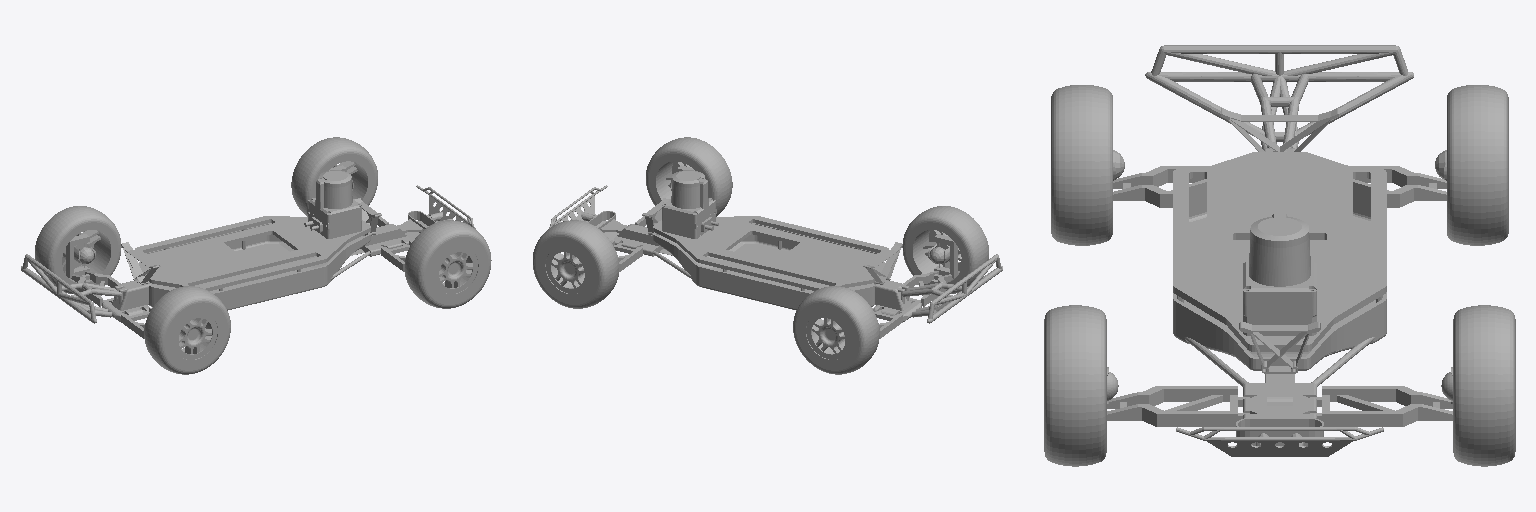
The robot description file, URDF, robot "Assembly":
<?xml version="1.0" ?>
<!-- =================================================================================== -->
<!-- |    This document was autogenerated by xacro from src/Assembly_description_2/urdf/Assembly.xacro | -->
<!-- |    EDITING THIS FILE BY HAND IS NOT RECOMMENDED                                 | -->
<!-- =================================================================================== -->
<robot name="Assembly">
  <material name="silver">
    <color rgba="0.700 0.700 0.700 1.000"/>
  </material>
  <material name="black">
    <color rgba="0.2 0.2 0.2 1."/>
  </material>
  <material name="blue">
    <color rgba="0.3 0.57 1. 1."/>
  </material>
  <transmission name="Revolute_40_tran">
    <type>transmission_interface/SimpleTransmission</type>
    <joint name="Revolute_40">
      <hardwareInterface>hardware_interface/EffortJointInterface</hardwareInterface>
    </joint>
    <actuator name="Revolute_40_actr">
      <hardwareInterface>hardware_interface/EffortJointInterface</hardwareInterface>
      <mechanicalReduction>1</mechanicalReduction>
    </actuator>
  </transmission>
  <transmission name="Revolute_41_tran">
    <type>transmission_interface/SimpleTransmission</type>
    <joint name="Revolute_41">
      <hardwareInterface>hardware_interface/EffortJointInterface</hardwareInterface>
    </joint>
    <actuator name="Revolute_41_actr">
      <hardwareInterface>hardware_interface/EffortJointInterface</hardwareInterface>
      <mechanicalReduction>1</mechanicalReduction>
    </actuator>
  </transmission>
  <transmission name="Revolute_42_tran">
    <type>transmission_interface/SimpleTransmission</type>
    <joint name="Revolute_42">
      <hardwareInterface>hardware_interface/EffortJointInterface</hardwareInterface>
    </joint>
    <actuator name="Revolute_42_actr">
      <hardwareInterface>hardware_interface/EffortJointInterface</hardwareInterface>
      <mechanicalReduction>1</mechanicalReduction>
    </actuator>
  </transmission>
  <transmission name="Revolute_43_tran">
    <type>transmission_interface/SimpleTransmission</type>
    <joint name="Revolute_43">
      <hardwareInterface>hardware_interface/EffortJointInterface</hardwareInterface>
    </joint>
    <actuator name="Revolute_43_actr">
      <hardwareInterface>hardware_interface/EffortJointInterface</hardwareInterface>
      <mechanicalReduction>1</mechanicalReduction>
    </actuator>
  </transmission>
  <transmission name="Revolute_44_tran">
    <type>transmission_interface/SimpleTransmission</type>
    <joint name="Revolute_44">
      <hardwareInterface>hardware_interface/EffortJointInterface</hardwareInterface>
    </joint>
    <actuator name="Revolute_44_actr">
      <hardwareInterface>hardware_interface/EffortJointInterface</hardwareInterface>
      <mechanicalReduction>1</mechanicalReduction>
    </actuator>
  </transmission>
  <transmission name="Revolute_45_tran">
    <type>transmission_interface/SimpleTransmission</type>
    <joint name="Revolute_45">
      <hardwareInterface>hardware_interface/EffortJointInterface</hardwareInterface>
    </joint>
    <actuator name="Revolute_45_actr">
      <hardwareInterface>hardware_interface/EffortJointInterface</hardwareInterface>
      <mechanicalReduction>1</mechanicalReduction>
    </actuator>
  </transmission>
  <gazebo>
    <plugin filename="libgazebo_ros_control.so" name="control"/>
  </gazebo>
  <gazebo reference="base_link">
    <material>Gazebo/Silver</material>
    <mu1>0.2</mu1>
    <mu2>0.2</mu2>
    <selfCollide>true</selfCollide>
    <gravity>true</gravity>
  </gazebo>
  <gazebo reference="rotator_left_1">
    <material>Gazebo/Silver</material>
    <mu1>0.2</mu1>
    <mu2>0.2</mu2>
    <selfCollide>true</selfCollide>
  </gazebo>
  <gazebo reference="rotator_right_1">
    <material>Gazebo/Silver</material>
    <mu1>0.2</mu1>
    <mu2>0.2</mu2>
    <selfCollide>true</selfCollide>
  </gazebo>
  <gazebo reference="wheel_back_left_1">
    <material>Gazebo/Silver</material>
    <mu1>0.2</mu1>
    <mu2>0.2</mu2>
    <selfCollide>true</selfCollide>
  </gazebo>
  <gazebo reference="wheel_back_right_1">
    <material>Gazebo/Silver</material>
    <mu1>0.2</mu1>
    <mu2>0.2</mu2>
    <selfCollide>true</selfCollide>
  </gazebo>
  <gazebo reference="wheel_front_left_1">
    <material>Gazebo/Silver</material>
    <mu1>0.2</mu1>
    <mu2>0.2</mu2>
    <selfCollide>true</selfCollide>
  </gazebo>
  <gazebo reference="wheel_front_right_1">
    <material>Gazebo/Silver</material>
    <mu1>0.2</mu1>
    <mu2>0.2</mu2>
    <selfCollide>true</selfCollide>
  </gazebo>
  <link name="base_link">
    <inertial>
      <origin rpy="0 0 0" xyz="-0.02572645957604468 6.569516383123642e-06 0.017821626738037458"/>
      <mass value="4.156457046473223"/>
      <inertia ixx="0.013034" ixy="-6e-06" ixz="0.000867" iyy="0.084094" iyz="0.0" izz="0.095033"/>
    </inertial>
    <visual>
      <origin rpy="0 0 0" xyz="0 0 0"/>
      <geometry>
        <mesh filename="meshes/base_link.stl" scale="0.001 0.001 0.001"/>
      </geometry>
      <material name="silver"/>
    </visual>
    <collision>
      <origin rpy="0 0 0" xyz="0 0 0"/>
      <geometry>
        <mesh filename="meshes/base_link.stl" scale="0.001 0.001 0.001"/>
      </geometry>
    </collision>
  </link>
  <link name="rotator_left_1">
    <inertial>
      <origin rpy="0 0 0" xyz="4.4846516666918745e-07 0.003934914786975843 0.018000014002886432"/>
      <mass value="0.09154101472024741"/>
      <inertia ixx="1.1e-05" ixy="0.0" ixz="0.0" iyy="7e-06" iyz="0.0" izz="1e-05"/>
    </inertial>
    <visual>
      <origin rpy="0 0 0" xyz="-0.194799 -0.123074 -0.008"/>
      <geometry>
        <mesh filename="meshes/rotator_left_1.stl" scale="0.001 0.001 0.001"/>
      </geometry>
      <material name="silver"/>
    </visual>
    <collision>
      <origin rpy="0 0 0" xyz="-0.194799 -0.123074 -0.008"/>
      <geometry>
        <mesh filename="meshes/rotator_left_1.stl" scale="0.001 0.001 0.001"/>
      </geometry>
    </collision>
  </link>
  <link name="rotator_right_1">
    <inertial>
      <origin rpy="0 0 0" xyz="4.4867377607671344e-07 -0.0039356889065224054 0.018000014002296498"/>
      <mass value="0.0915410147202475"/>
      <inertia ixx="1.1e-05" ixy="-0.0" ixz="0.0" iyy="7e-06" iyz="-0.0" izz="1e-05"/>
    </inertial>
    <visual>
      <origin rpy="0 0 0" xyz="-0.194799 0.122975 -0.008"/>
      <geometry>
        <mesh filename="meshes/rotator_right_1.stl" scale="0.001 0.001 0.001"/>
      </geometry>
      <material name="silver"/>
    </visual>
    <collision>
      <origin rpy="0 0 0" xyz="-0.194799 0.122975 -0.008"/>
      <geometry>
        <mesh filename="meshes/rotator_right_1.stl" scale="0.001 0.001 0.001"/>
      </geometry>
    </collision>
  </link>
  <link name="wheel_back_left_1">
    <inertial>
      <origin rpy="0 0 0" xyz="-5.9590334083869934e-08 -0.004873834232398622 -1.6533018565301205e-09"/>
      <mass value="1.8001224559704576"/>
      <inertia ixx="0.001935" ixy="0.0" ixz="0.0" iyy="0.003387" iyz="-0.0" izz="0.001935"/>
    </inertial>
    <visual>
      <origin rpy="0 0 0" xyz="0.170156 -0.1398 -0.0205"/>
      <geometry>
        <mesh filename="meshes/wheel_back_left_1.stl" scale="0.001 0.001 0.001"/>
      </geometry>
      <material name="silver"/>
    </visual>
    <collision>
      <origin rpy="0 0 0" xyz="0.170156 -0.1398 -0.0205"/>
      <geometry>
        <mesh filename="meshes/wheel_back_left_1.stl" scale="0.001 0.001 0.001"/>
      </geometry>
    </collision>
  </link>
  <link name="wheel_back_right_1">
    <inertial>
      <origin rpy="0 0 0" xyz="-5.938171759867217e-08 0.004873835811921301 1.7874123604821879e-09"/>
      <mass value="1.8001224559704576"/>
      <inertia ixx="0.001935" ixy="-0.0" ixz="-0.0" iyy="0.003387" iyz="-0.0" izz="0.001935"/>
    </inertial>
    <visual>
      <origin rpy="0 0 0" xyz="0.170156 0.1398 -0.0205"/>
      <geometry>
        <mesh filename="meshes/wheel_back_right_1.stl" scale="0.001 0.001 0.001"/>
      </geometry>
      <material name="silver"/>
    </visual>
    <collision>
      <origin rpy="0 0 0" xyz="0.170156 0.1398 -0.0205"/>
      <geometry>
        <mesh filename="meshes/wheel_back_right_1.stl" scale="0.001 0.001 0.001"/>
      </geometry>
    </collision>
  </link>
  <link name="wheel_front_left_1">
    <inertial>
      <origin rpy="0 0 0" xyz="4.07839516408659e-07 -0.004874166721957063 -1.6533018461217797e-09"/>
      <mass value="1.8001224559704576"/>
      <inertia ixx="0.001935" ixy="0.0" ixz="0.0" iyy="0.003387" iyz="-0.0" izz="0.001935"/>
    </inertial>
    <visual>
      <origin rpy="0 0 0" xyz="-0.194799 -0.144374 -0.026"/>
      <geometry>
        <mesh filename="meshes/wheel_front_left_1.stl" scale="0.001 0.001 0.001"/>
      </geometry>
      <material name="silver"/>
    </visual>
    <collision>
      <origin rpy="0 0 0" xyz="-0.194799 -0.144374 -0.026"/>
      <geometry>
        <mesh filename="meshes/wheel_front_left_1.stl" scale="0.001 0.001 0.001"/>
      </geometry>
    </collision>
  </link>
  <link name="wheel_front_right_1">
    <inertial>
      <origin rpy="0 0 0" xyz="4.08048126010474e-07 0.0048733926024102925 1.7874124749739373e-09"/>
      <mass value="1.8001224559704576"/>
      <inertia ixx="0.001935" ixy="-0.0" ixz="-0.0" iyy="0.003387" iyz="-0.0" izz="0.001935"/>
    </inertial>
    <visual>
      <origin rpy="0 0 0" xyz="-0.194799 0.144275 -0.026"/>
      <geometry>
        <mesh filename="meshes/wheel_front_right_1.stl" scale="0.001 0.001 0.001"/>
      </geometry>
      <material name="silver"/>
    </visual>
    <collision>
      <origin rpy="0 0 0" xyz="-0.194799 0.144275 -0.026"/>
      <geometry>
        <mesh filename="meshes/wheel_front_right_1.stl" scale="0.001 0.001 0.001"/>
      </geometry>
    </collision>
  </link>
  <link name="hokuyo_1">
    <inertial>
      <origin rpy="0 0 0" xyz="0.24350755184543652 0.1300039563861765 0.029712797831224984"/>
      <mass value="0.36783477848639723"/>
      <inertia ixx="0.0002" ixy="0.0" ixz="1e-06" iyy="0.000206" iyz="0.0" izz="0.000127"/>
    </inertial>
    <visual>
      <origin rpy="0 0 0" xyz="0.128416 0.13 -0.038"/>
      <geometry>
        <mesh filename="meshes/hokuyo_1.stl" scale="0.001 0.001 0.001"/>
      </geometry>
      <material name="silver"/>
    </visual>
    <collision>
      <origin rpy="0 0 0" xyz="0.128416 0.13 -0.038"/>
      <geometry>
        <mesh filename="meshes/hokuyo_1.stl" scale="0.001 0.001 0.001"/>
      </geometry>
    </collision>
  </link>
  <joint name="left_wheel_rotator" type="continuous">
    <origin rpy="0 0 0" xyz="0.194799 0.123074 0.008"/>
    <parent link="base_link"/>
    <child link="rotator_left_1"/>
    <axis xyz="0.0 -0.0 1.0"/>
  </joint>
  <joint name="right_wheel_rotator" type="continuous">
    <origin rpy="0 0 0" xyz="0.194799 -0.122975 0.008"/>
    <parent link="base_link"/>
    <child link="rotator_right_1"/>
    <axis xyz="-0.0 -0.0 -1.0"/>
  </joint>
  <joint name="left_wheel_back" type="continuous">
    <origin rpy="0 0 0" xyz="-0.170156 0.1398 0.0205"/>
    <parent link="base_link"/>
    <child link="wheel_back_left_1"/>
    <axis xyz="0.0 1.0 0.0"/>
  </joint>
  <joint name="right_wheel_back" type="continuous">
    <origin rpy="0 0 0" xyz="-0.170156 -0.1398 0.0205"/>
    <parent link="base_link"/>
    <child link="wheel_back_right_1"/>
    <axis xyz="-0.0 -1.0 0.0"/>
  </joint>
  <joint name="left_wheel_front" type="continuous">
    <origin rpy="0 0 0" xyz="0.0 0.0213 0.018"/>
    <parent link="rotator_left_1"/>
    <child link="wheel_front_left_1"/>
    <axis xyz="0.0 1.0 0.0"/>
  </joint>
  <joint name="right_wheel_front" type="continuous">
    <origin rpy="0 0 0" xyz="0.0 -0.0213 0.018"/>
    <parent link="rotator_right_1"/>
    <child link="wheel_front_right_1"/>
    <axis xyz="-0.0 -1.0 -0.0"/>
  </joint>
  <joint name="Rigid 51" type="fixed">
    <origin rpy="0 0 0" xyz="-0.128416 -0.13 0.038"/>
    <parent link="base_link"/>
    <child link="hokuyo_1"/>
  </joint>
</robot>

--- Facts derived from the render (not from the file) ---
Views: 3 orthographic renders of the robot side by side, from view 1: azimuth 30°, elevation 25°; view 2: azimuth 150°, elevation 25°; view 3: azimuth 270°, elevation 25°.
Model Assembly with 8 links and 7 joints (6 continuous, 1 fixed), rooted at base_link, posed all joints at 0.
Visible links, largest first — view 1: base_link, wheel_back_right_1, wheel_front_right_1, wheel_back_left_1, wheel_front_left_1, hokuyo_1; view 2: base_link, wheel_back_left_1, wheel_front_left_1, wheel_back_right_1, wheel_front_right_1, hokuyo_1; view 3: base_link, wheel_front_left_1, wheel_front_right_1, wheel_back_right_1, wheel_back_left_1, hokuyo_1.
Boxes of the visible links, x1,y1,x2,y2 form: base_link: (21,165,475,338); wheel_back_right_1: (144,286,230,374); wheel_front_right_1: (405,220,491,308); wheel_back_left_1: (35,206,121,293); wheel_front_left_1: (291,137,377,216); hokuyo_1: (304,170,361,238); base_link: (549,165,1002,338); wheel_back_left_1: (793,286,879,374); wheel_front_left_1: (533,220,618,308); wheel_back_right_1: (902,206,988,293); wheel_front_right_1: (646,137,732,216); hokuyo_1: (662,170,718,238); base_link: (1107,45,1452,456); wheel_front_left_1: (1453,305,1515,466); wheel_front_right_1: (1044,305,1106,466); wheel_back_right_1: (1051,85,1112,245); wheel_back_left_1: (1447,85,1508,245); hokuyo_1: (1243,214,1316,335).
Size in the robot's own frame: 0.557 by 0.3186 by 0.1421 metres.
8 mesh visuals loaded from 8 distinct referenced files (8 binary STL).